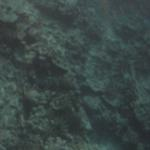dead: (2, 5, 145, 145)
